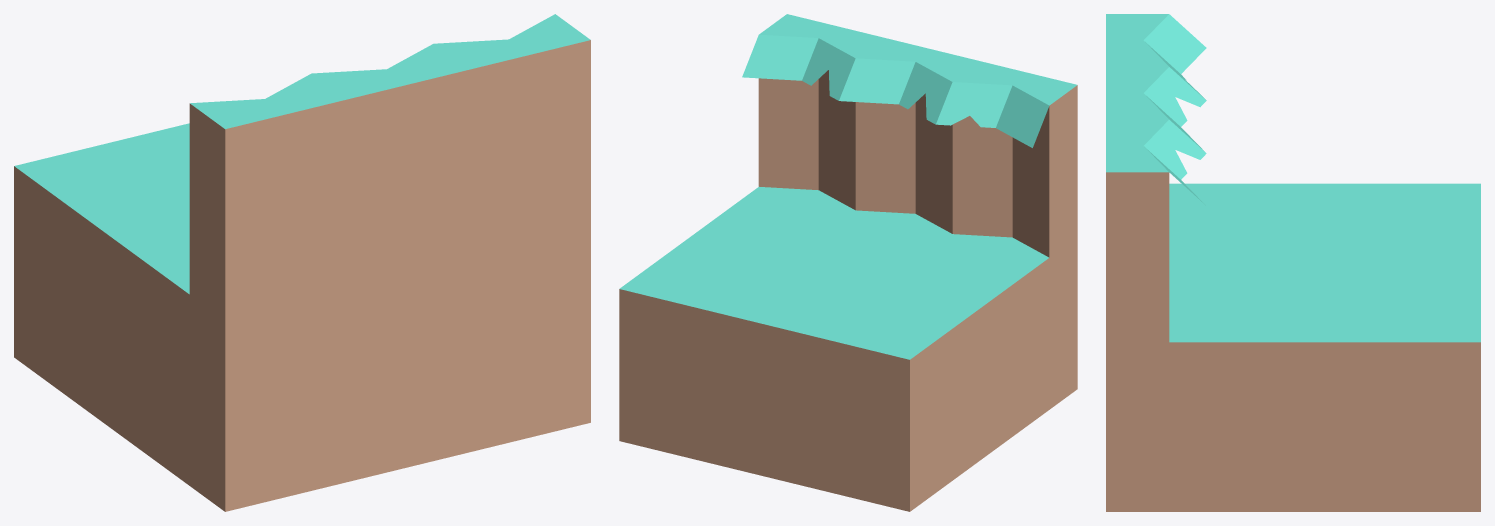
The model's file is cliff_half_top_rock.glb.
3 views of the same model, side by side, from view 1: azimuth 30°, elevation 25°; view 2: azimuth 150°, elevation 25°; view 3: azimuth 270°, elevation 25° (orthographic). The views are drawn at different scales.
Visible parts, largest first — view 1: cliff_half_top_rock; view 2: cliff_half_top_rock; view 3: cliff_half_top_rock.
Part boxes in pixels (<box>): cliff_half_top_rock: <box>14,14,590,511</box>; cliff_half_top_rock: <box>619,14,1077,511</box>; cliff_half_top_rock: <box>1106,14,1480,511</box>.
Bounding box in the file's own units: 1 × 1 × 1.
